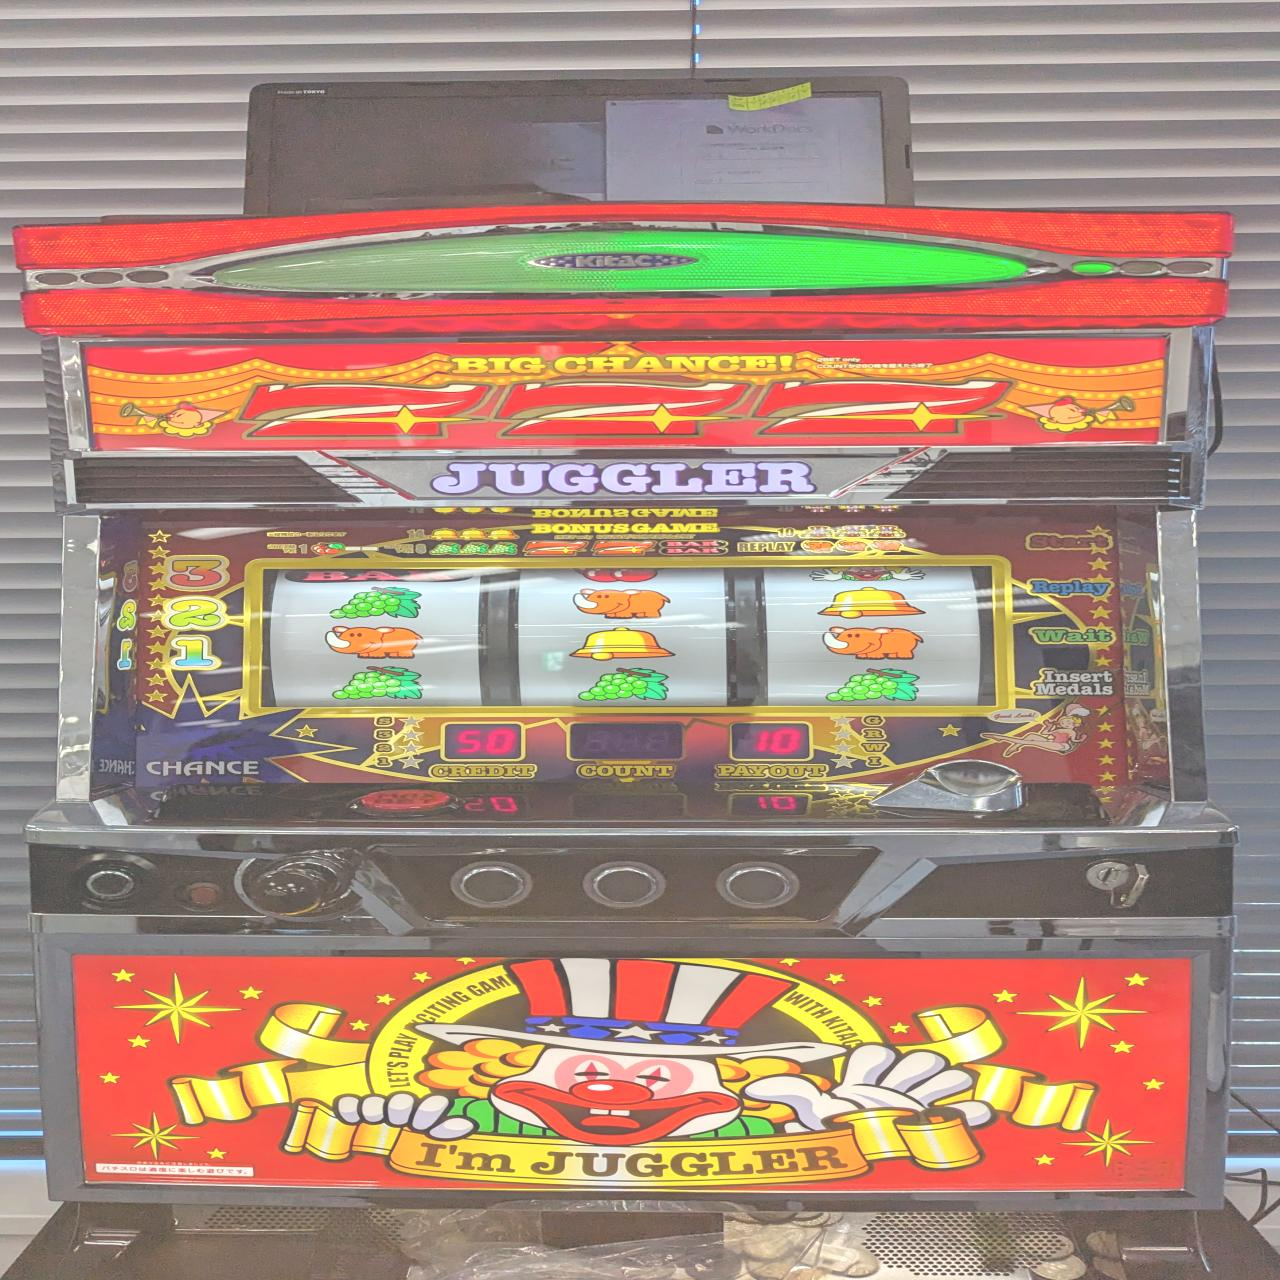8: (825, 625, 924, 660), (326, 626, 424, 660), (573, 588, 674, 619)
Display: (250, 561, 1007, 713)
bell: (818, 586, 928, 621), (564, 626, 678, 660)
grape: (327, 586, 423, 624), (828, 667, 922, 703), (332, 663, 425, 700), (579, 667, 673, 701)
